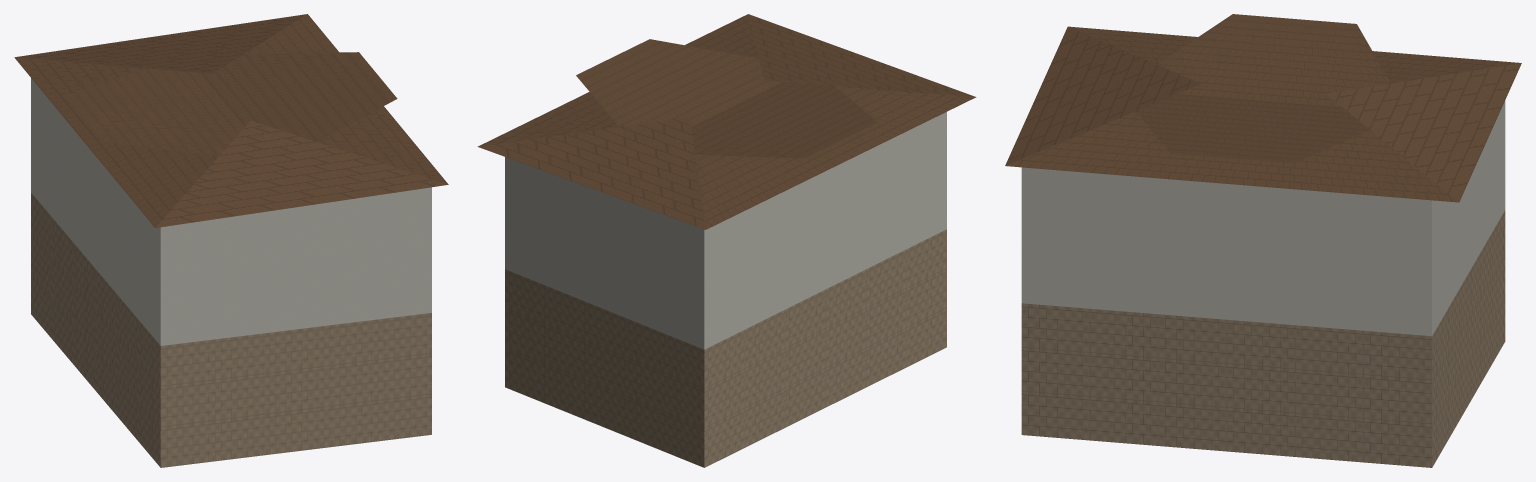
File: bld_c32_45_248.gltf
3 renders of one model, left to right at view 1: azimuth 30°, elevation 25°; view 2: azimuth 150°, elevation 25°; view 3: azimuth 270°, elevation 25°, orthographic. The views are drawn at different scales.
Visible parts, largest first — view 1: bld_c32_45_248; view 2: bld_c32_45_248; view 3: bld_c32_45_248.
Part boxes in pixels (x1,y1,x2,y2): bld_c32_45_248: [14, 14, 448, 467]; bld_c32_45_248: [477, 14, 976, 467]; bld_c32_45_248: [1005, 14, 1521, 467].
Bounding box in the file's own units: 14.61 × 11.6 × 18.14.
Materials: 3 (3 with a texture image).
